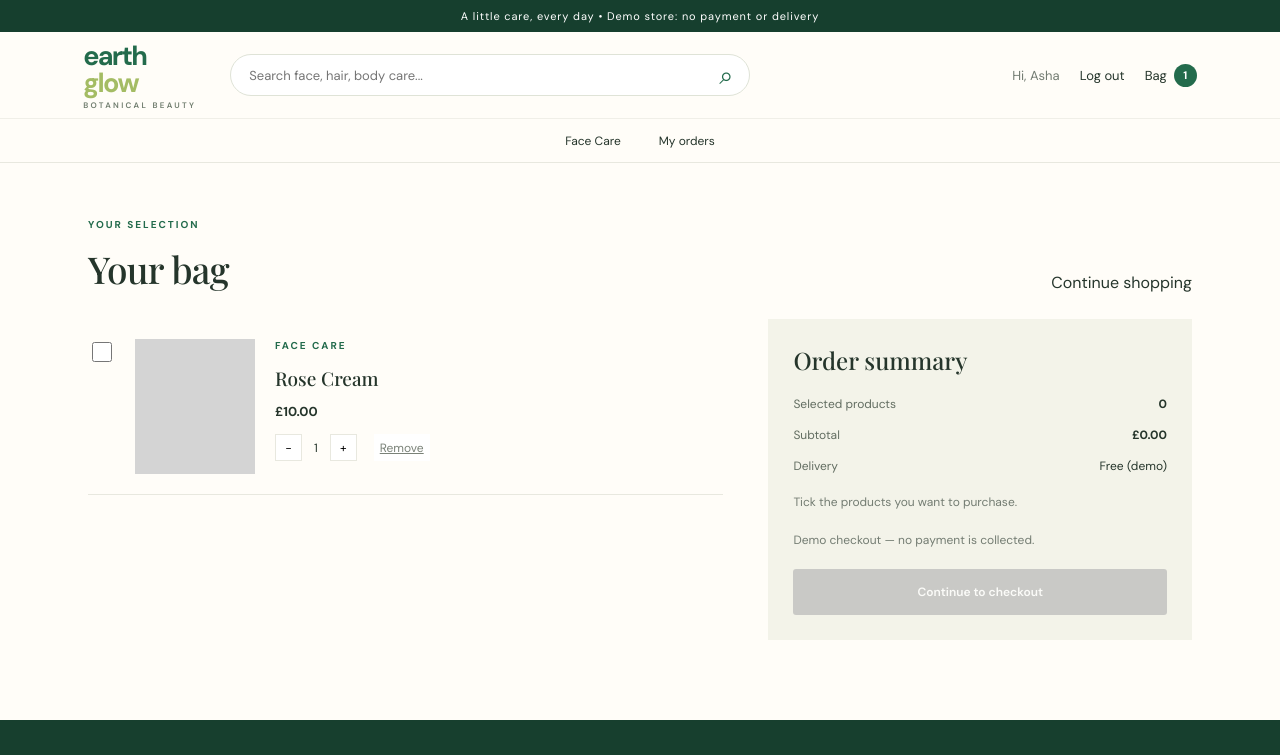
Scenario: demo notices › says checkout collects no payment, in professional wording
The image size is (1280, 755).
Click the checkbox named "Select Rose Cream": (102, 352) [92,342,112,362]
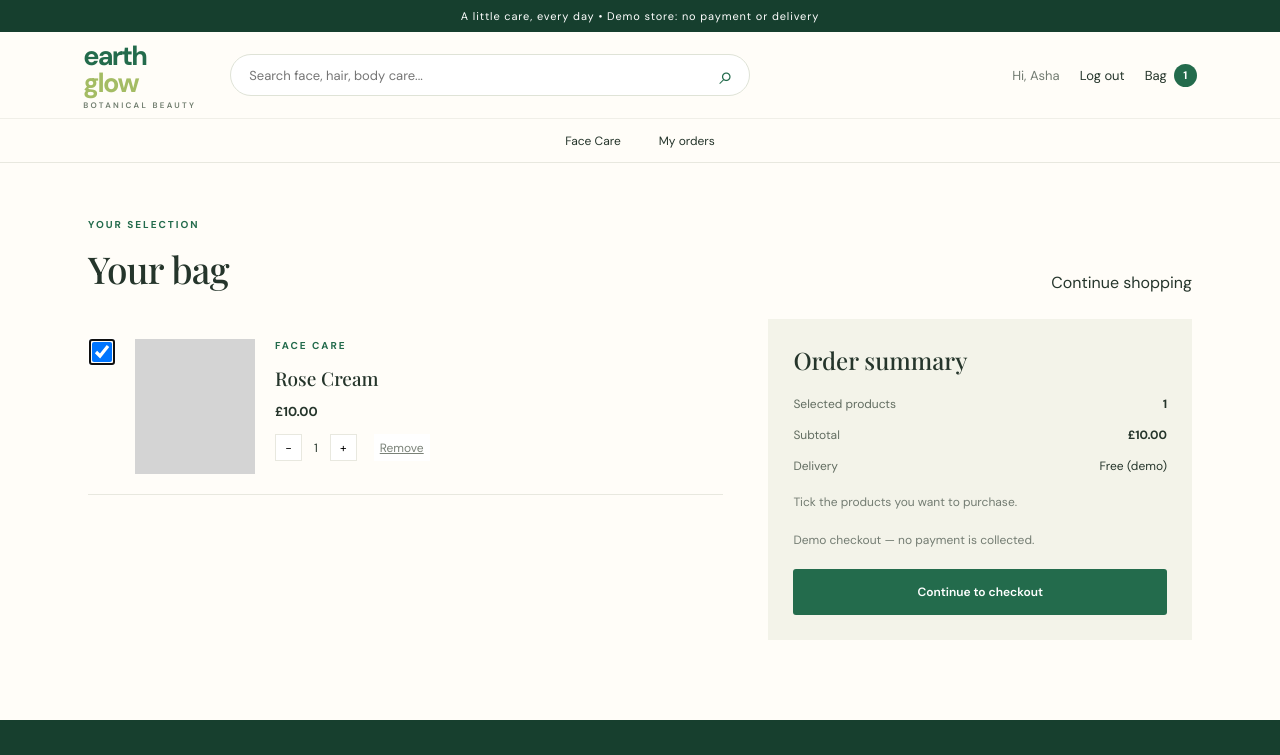
Click the button "Continue to checkout": (980, 592) [793,569,1167,615]
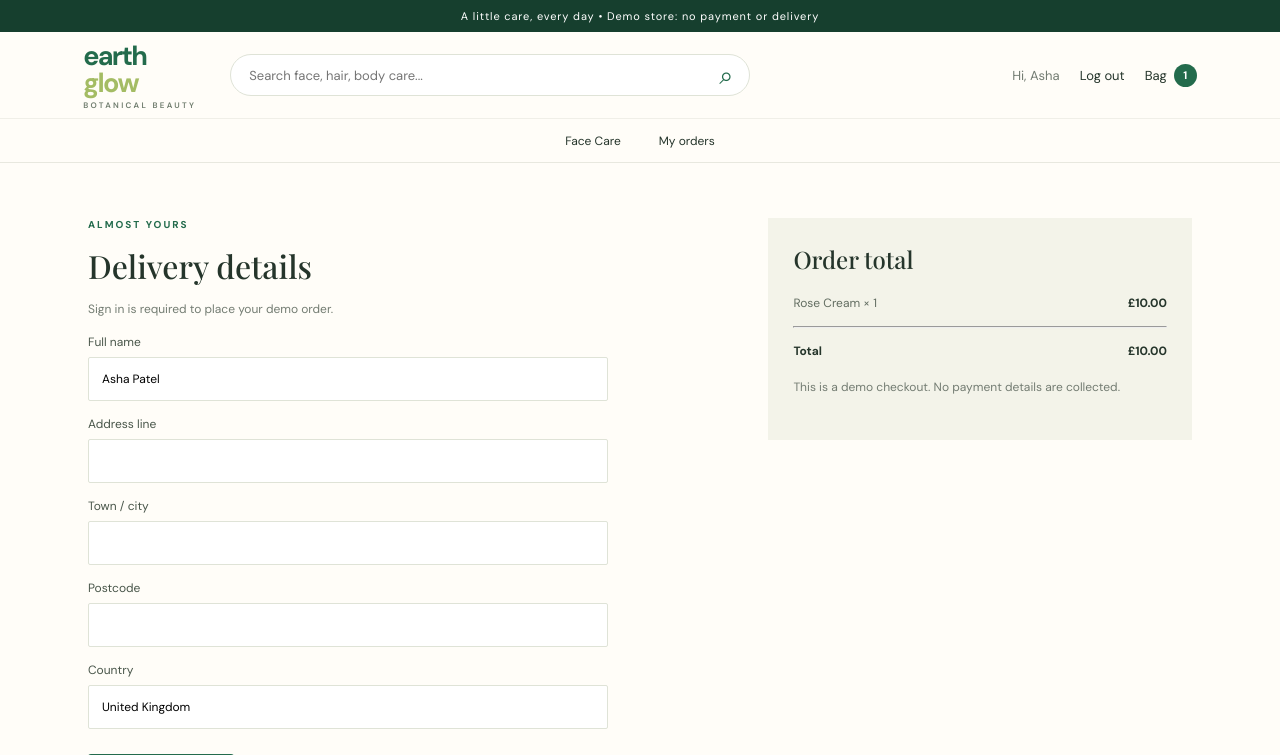
Check: the text "This is a demo checkout. No payment details are collected." is shown, box [793,377,1167,397]
